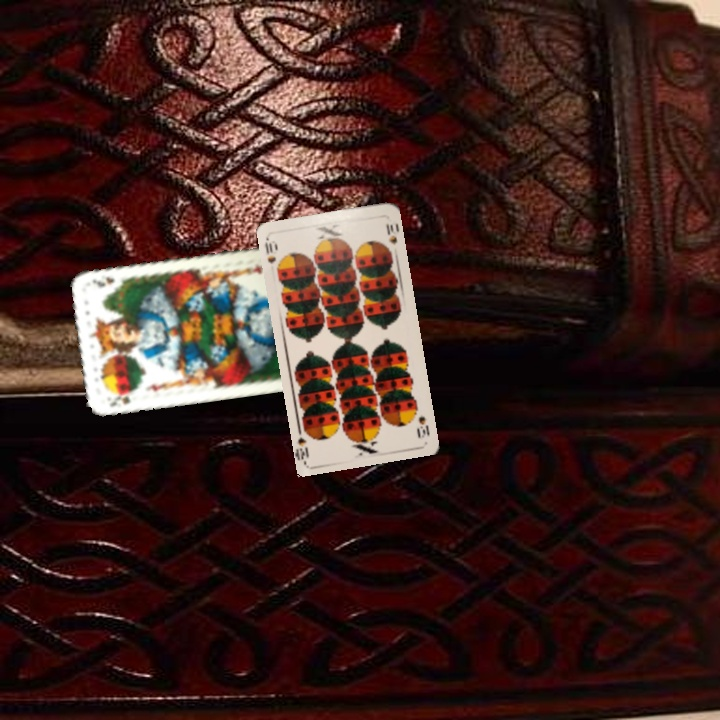S10: (261, 235, 284, 275), (413, 412, 432, 441)
SK: (105, 388, 135, 409)
